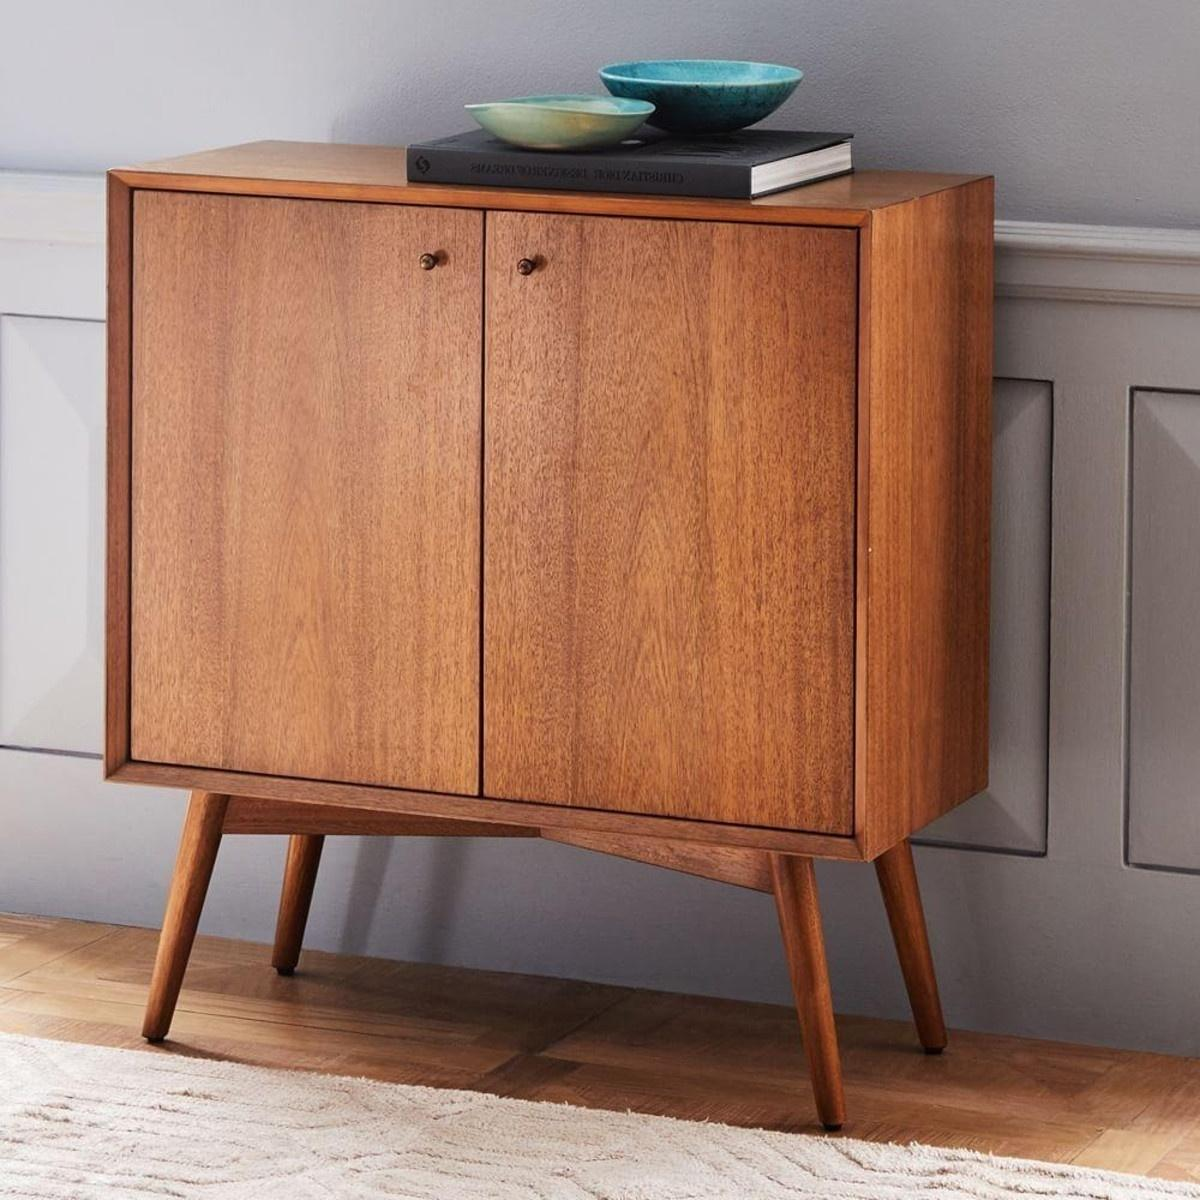cabinet_door: (480, 220, 864, 798), (126, 205, 477, 771)
handle: (509, 247, 553, 284), (416, 244, 457, 278)
